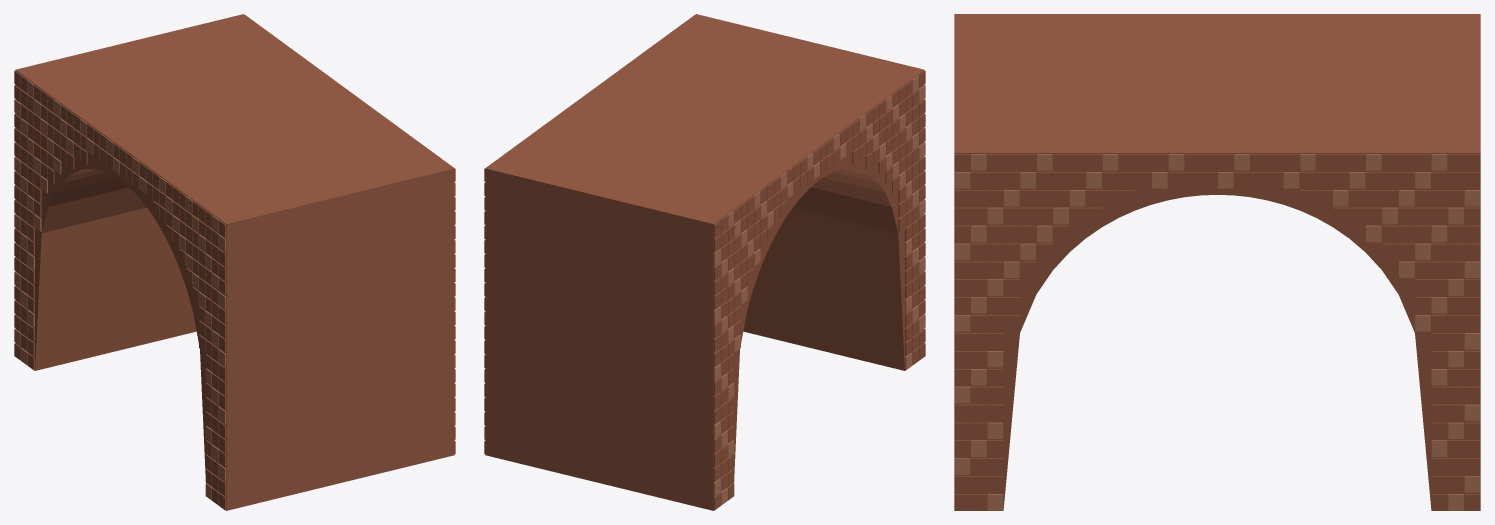
The model's file is arcade.fbx.
3 views of the same model, side by side, from view 1: azimuth 30°, elevation 25°; view 2: azimuth 150°, elevation 25°; view 3: azimuth 270°, elevation 25° (orthographic). The views are drawn at different scales.
Parts seen in each view (by area): view 1: arcade.001; view 2: arcade.001; view 3: arcade.001.
Part boxes in pixels (x1,y1,x2,y2): arcade.001: (14, 14, 455, 510); arcade.001: (484, 14, 925, 510); arcade.001: (954, 14, 1480, 510).
Size of the model in its own units: 5.05 by 6 by 8.
